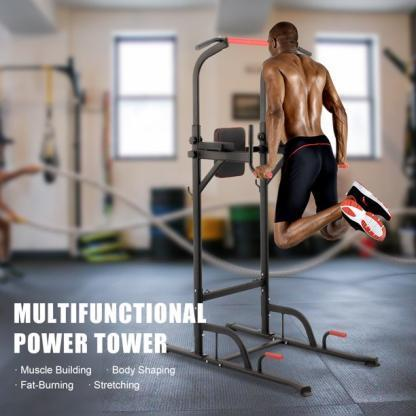chinning dipping: (190, 36, 380, 398)
